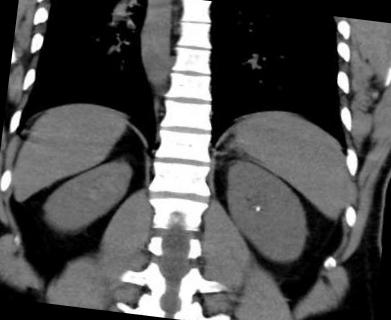Tas_Var: (252, 203, 262, 214)
